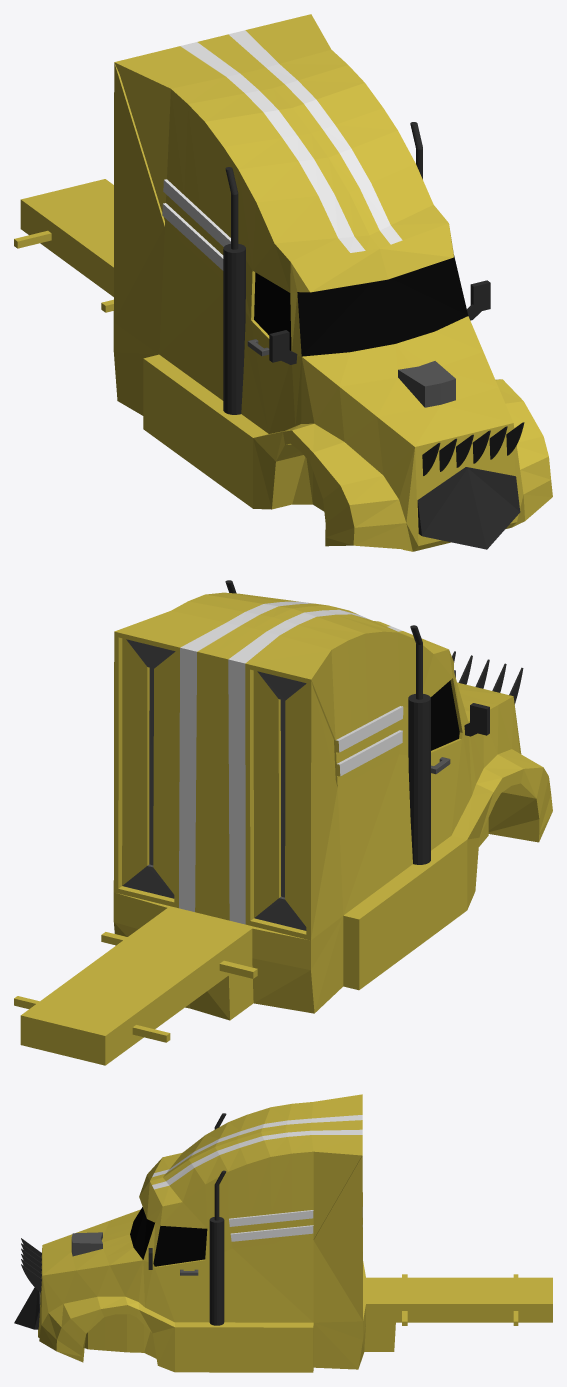
Rendered from BasicTruck.glb.
3 views of the same model, one above another, from view 1: azimuth 30°, elevation 25°; view 2: azimuth 150°, elevation 25°; view 3: azimuth 270°, elevation 25° (orthographic). The views are drawn at different scales.
Visible parts, largest first — view 1: Cube.016; view 2: Cube.016; view 3: Cube.016.
Part boxes in pixels (left/top/right/bottom): Cube.016: left=14, top=14, right=552, bottom=551; Cube.016: left=14, top=580, right=552, bottom=1065; Cube.016: left=14, top=1094, right=552, bottom=1372.
Bounding box in the file's own units: 2.6 × 3.83 × 8.73.
